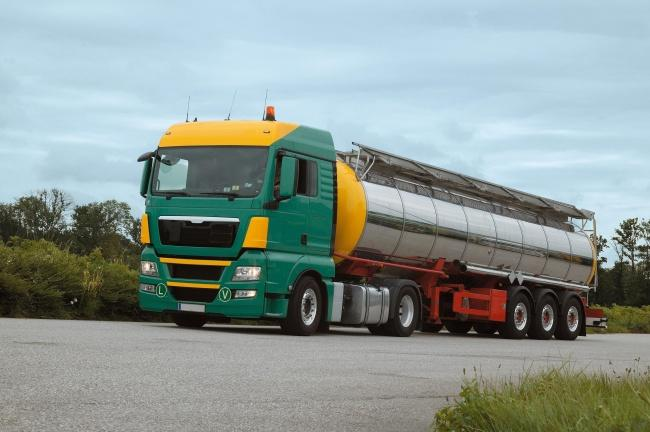truck: (120, 92, 605, 346)
